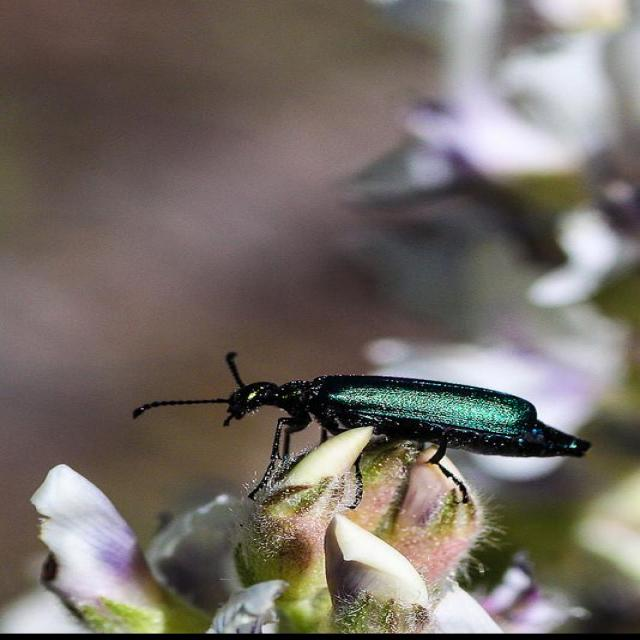BlisterBeetle-Adult-: (121, 340, 611, 517)
